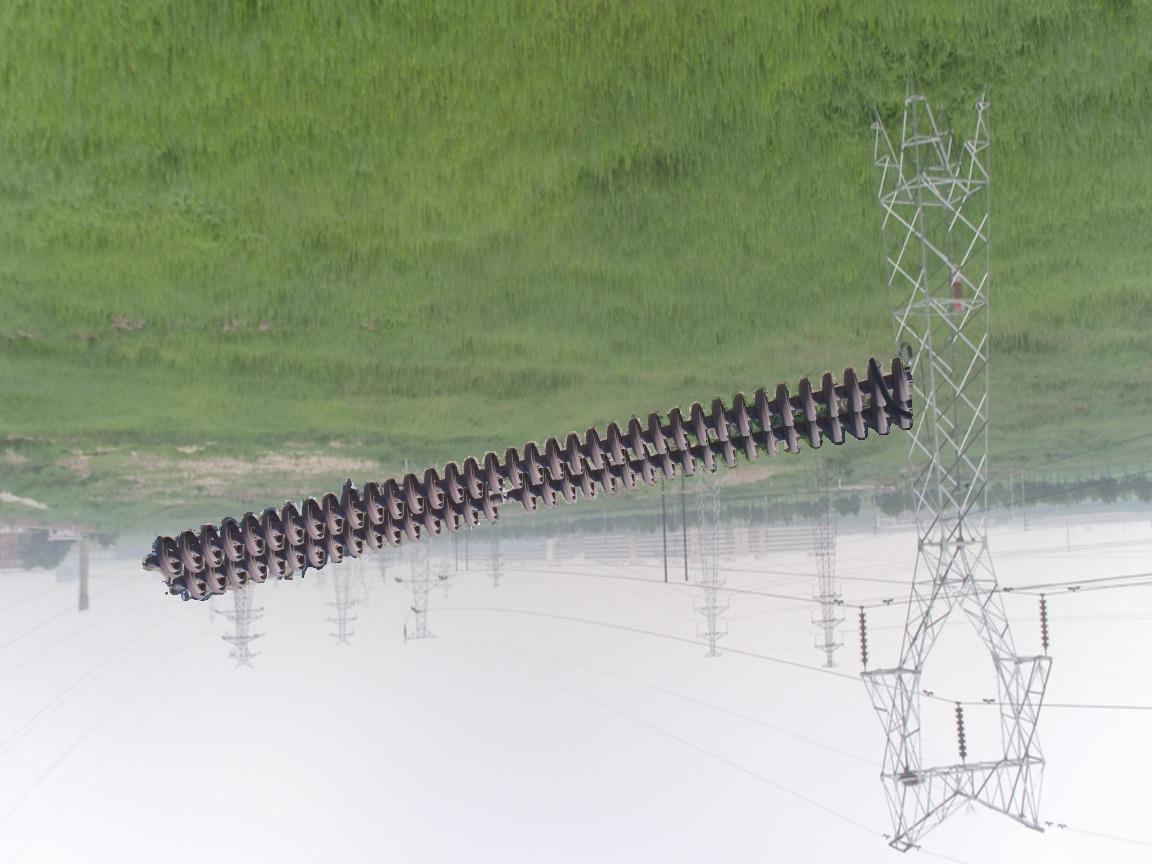insulator: (145, 351, 919, 605), (953, 705, 971, 761), (1036, 595, 1053, 650), (856, 610, 871, 666)
insulator_stringdrop: (478, 477, 540, 528)
